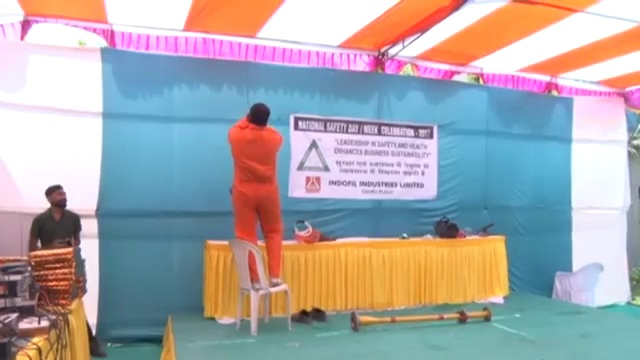helmet_off: (247, 101, 273, 129), (43, 183, 69, 210)
person: (221, 102, 287, 286), (25, 183, 83, 250)
